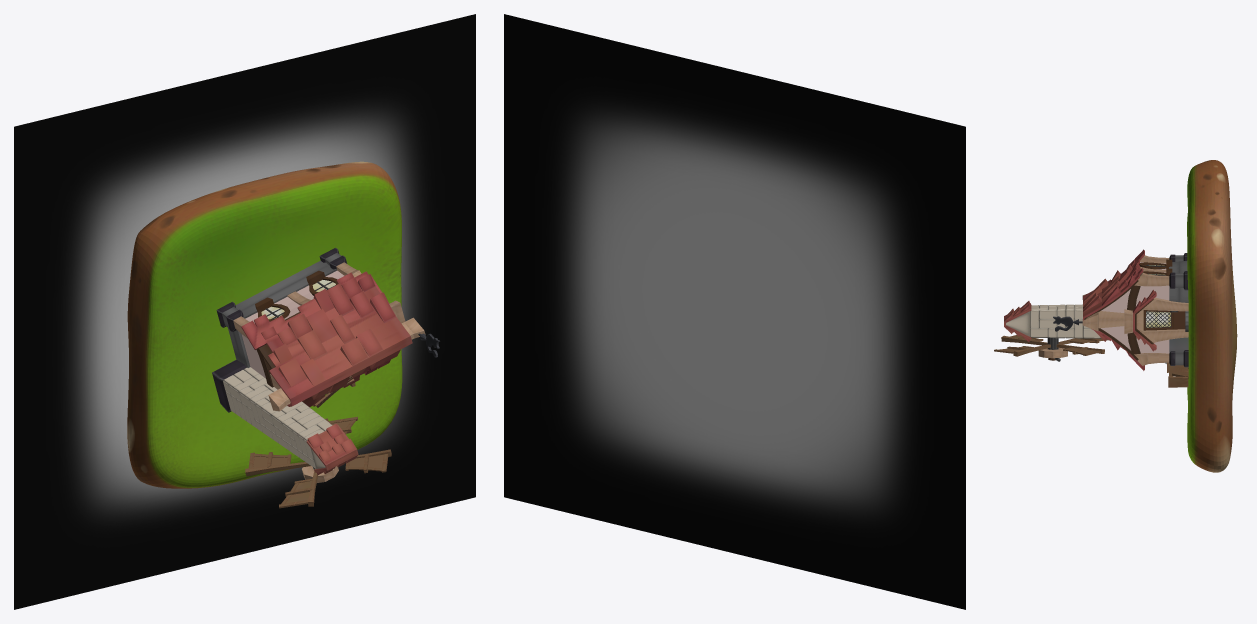
Rendered from Mill.gltf.
3 views of the same model, side by side, from view 1: azimuth 30°, elevation 25°; view 2: azimuth 150°, elevation 25°; view 3: azimuth 270°, elevation 25° (orthographic). The views are drawn at different scales.
Visible parts, largest first — view 1: Mill; view 2: Mill; view 3: Mill.
Part boxes in pixels (x1,y1,x2,y2): Mill: (14, 14, 475, 609); Mill: (504, 14, 965, 609); Mill: (994, 160, 1237, 472).
Bounding box in the file's own units: 33.13 × 33.13 × 18.39.
Materials: 3 (3 with a texture image).
